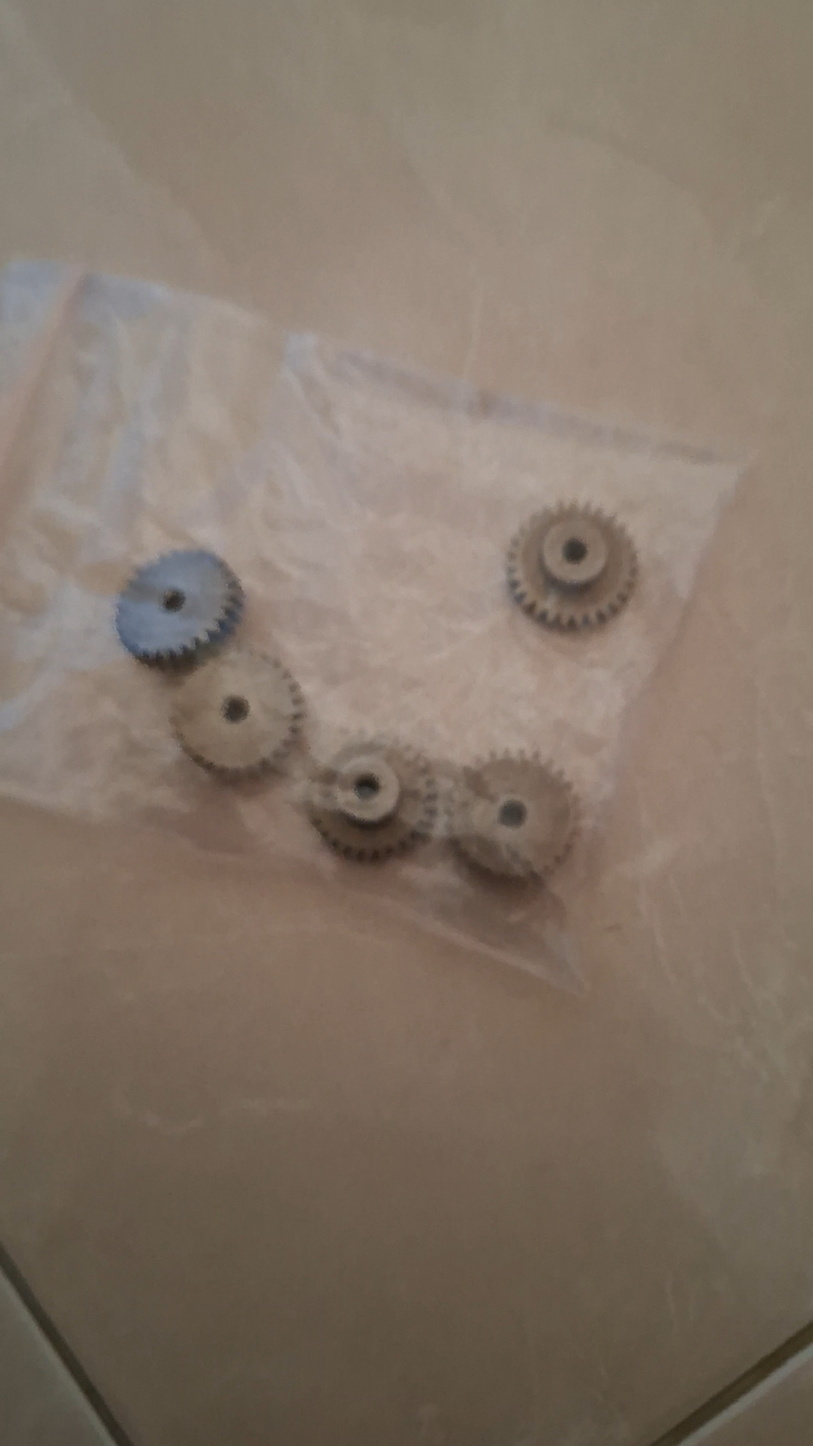spur gear: (172, 649, 304, 775), (507, 505, 637, 628), (451, 755, 578, 879), (308, 741, 437, 861), (116, 550, 242, 664)
